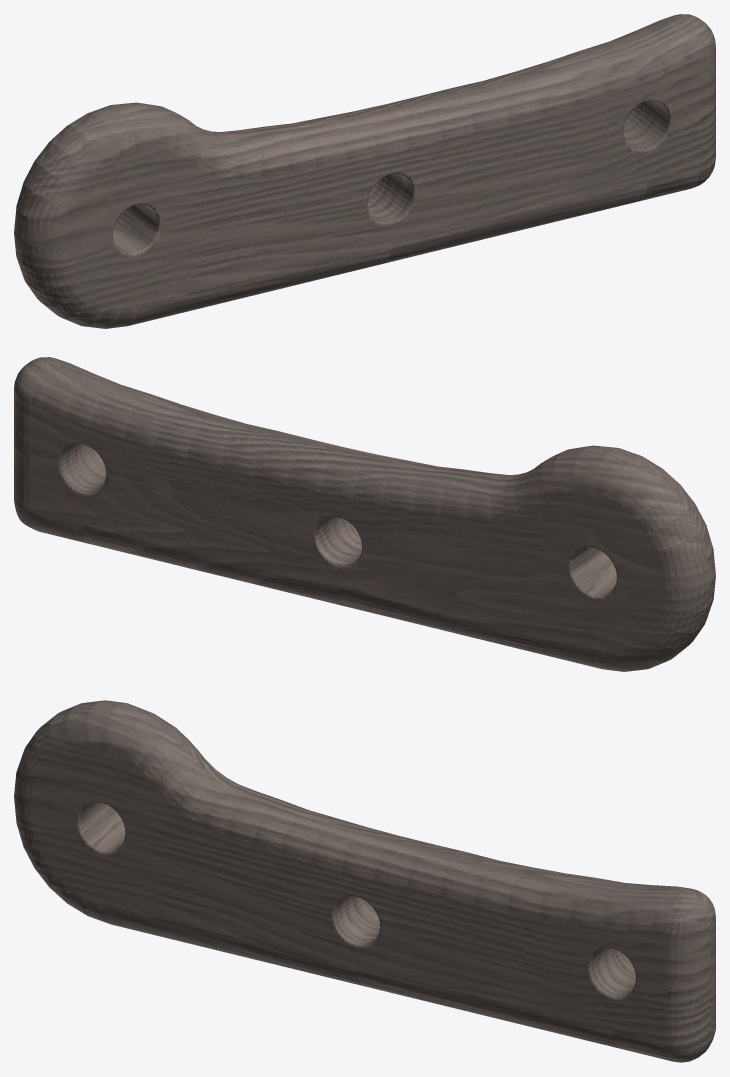
The model's file is BreadKnifeHilt.obj.
3 renders of one model, top to bottom at view 1: azimuth 30°, elevation 25°; view 2: azimuth 150°, elevation 25°; view 3: azimuth 330°, elevation 25°, orthographic.
Visible parts, largest first — view 1: BreadKnifeHilt; view 2: BreadKnifeHilt; view 3: BreadKnifeHilt.
Part boxes in pixels (x1,y1,x2,y2): BreadKnifeHilt: (14,14,715,328); BreadKnifeHilt: (14,357,715,671); BreadKnifeHilt: (14,700,715,1062).
Bounding box in the file's own units: 0.1156 × 0.0343 × 0.0102.
1 material, 1 textured.
